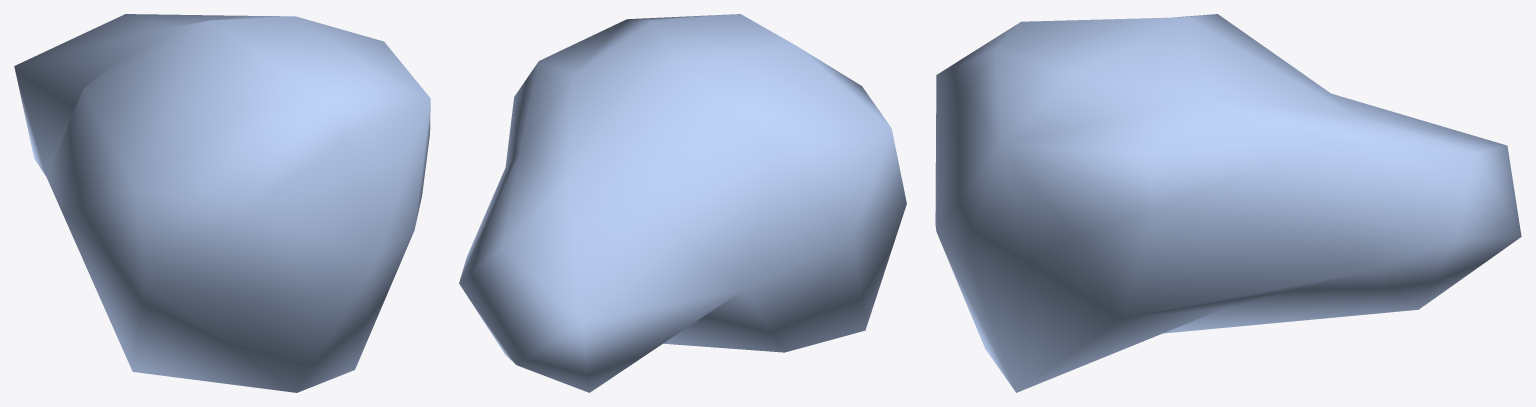
3 views of the same model, side by side, from view 1: azimuth 30°, elevation 25°; view 2: azimuth 150°, elevation 25°; view 3: azimuth 270°, elevation 25° (orthographic). The views are drawn at different scales.
Visible parts, largest first — view 1: Object51; view 2: Object51; view 3: Object51.
Boxes of the visible parts, x1=… form: Object51: x1=14, y1=14, x2=430, y2=392; Object51: x1=459, y1=14, x2=906, y2=392; Object51: x1=935, y1=14, x2=1521, y2=392.
Size of the model in its own units: 25490 by 22094 by 34555.
